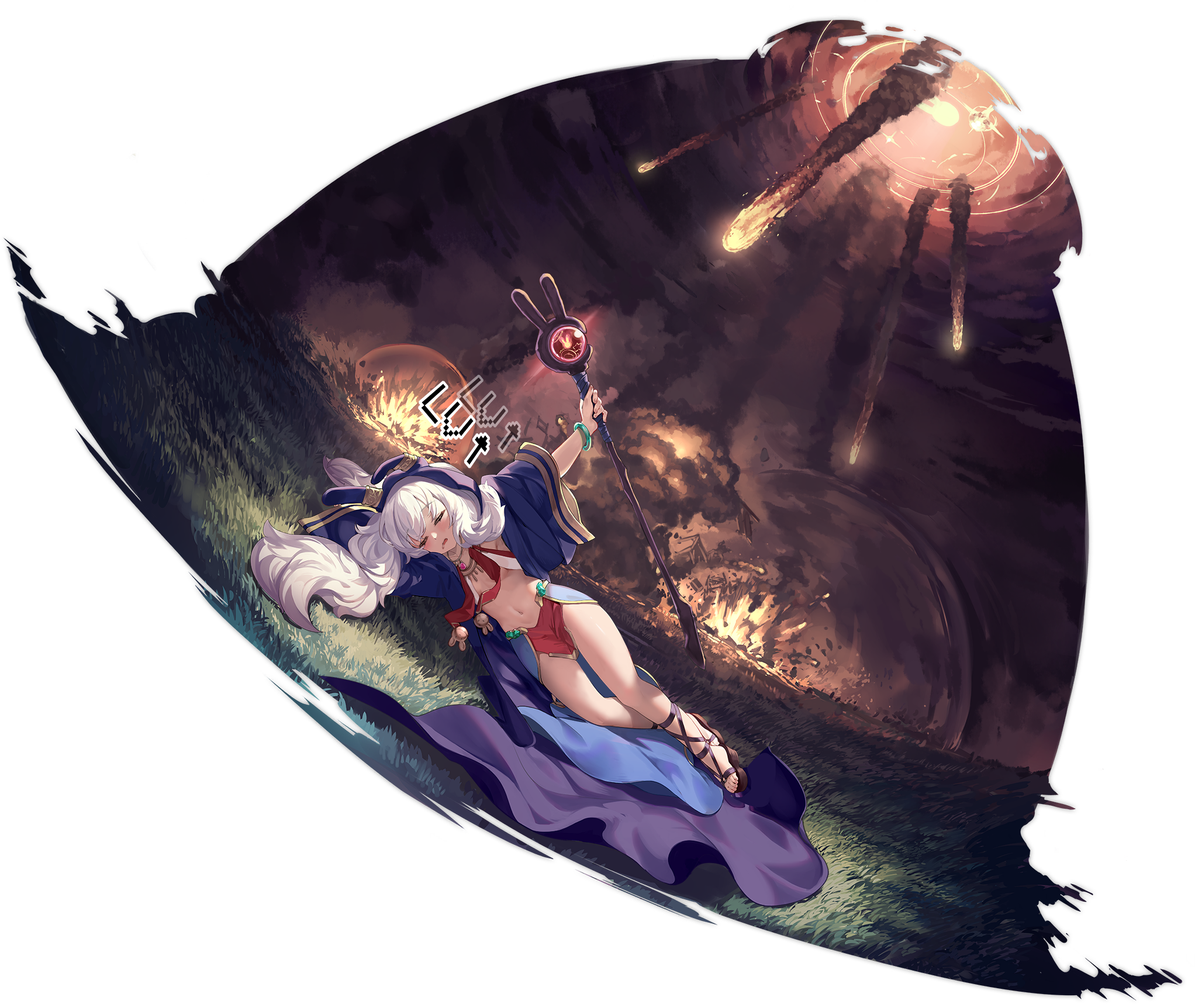person: (243, 245, 829, 914)
